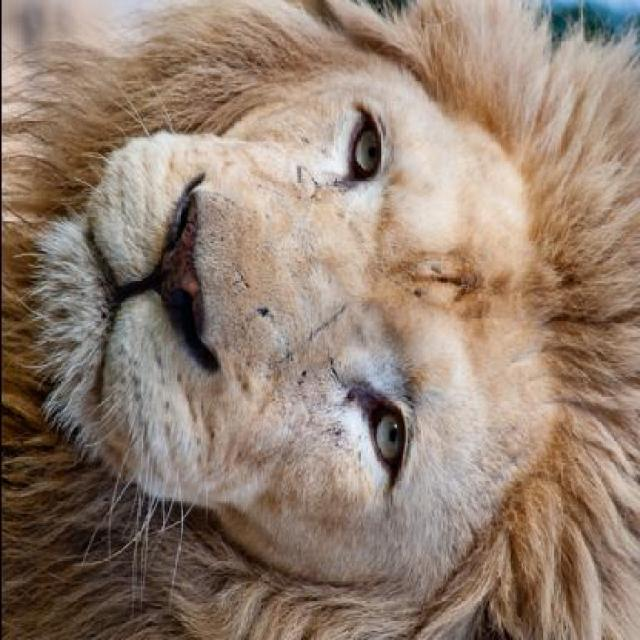Lion: (1, 1, 637, 632)
